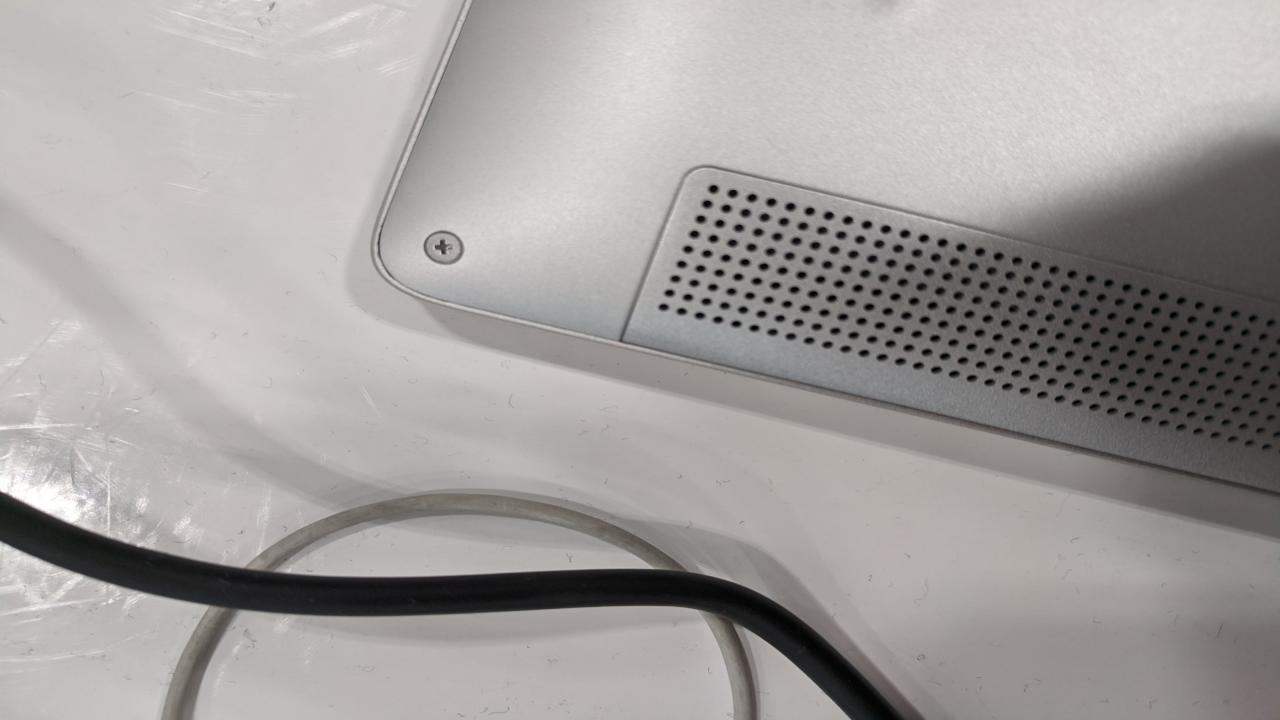CRS: (420, 225, 473, 262)
